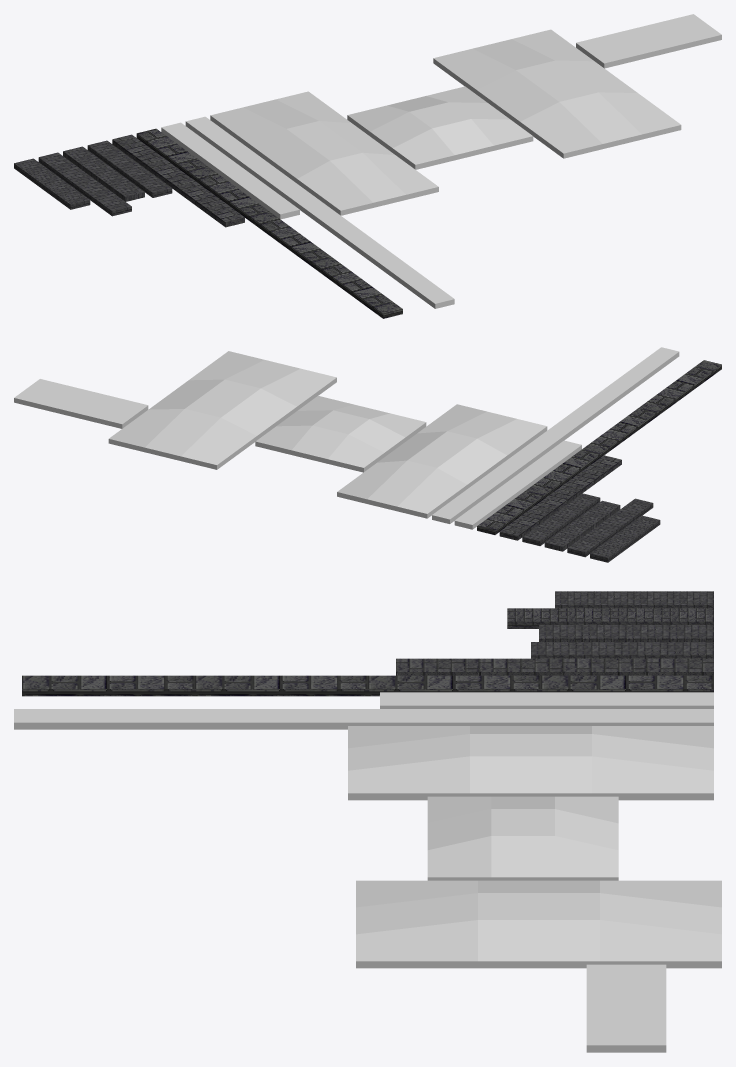
The model's file is Dungeon Roof.fbx.
3 views of the same model, one above another, from view 1: azimuth 30°, elevation 25°; view 2: azimuth 150°, elevation 25°; view 3: azimuth 270°, elevation 25° (orthographic). The views are drawn at different scales.
Parts seen in each view (by area): view 1: Cube.156, Cube.155, Cube.134, Cube.141, Cube.143, Cube.150, Cube.140, Cube.148, Cube.151, Cube.149, Cube.152, Cube.153; view 2: Cube.156, Cube.155, Cube.134, Cube.141, Cube.143, Cube.150, Cube.140, Cube.148, Cube.151, Cube.149, Cube.152, Cube.153; view 3: Cube.156, Cube.155, Cube.134, Cube.143, Cube.141, Cube.150, Cube.148, Cube.140, Cube.151, Cube.149, Cube.152, Cube.153.
Part boxes in pixels (box(x1,y1,x2,y2)): Cube.156: box(433, 29, 681, 158); Cube.155: box(210, 91, 438, 215); Cube.134: box(347, 86, 533, 169); Cube.141: box(185, 116, 454, 308); Cube.143: box(136, 128, 402, 318); Cube.150: box(576, 14, 721, 68); Cube.140: box(161, 122, 299, 219); Cube.148: box(112, 134, 244, 227); Cube.151: box(38, 152, 131, 216); Cube.149: box(87, 140, 172, 197); Cube.152: box(63, 146, 144, 201); Cube.153: box(14, 158, 90, 209); Cube.156: box(108, 351, 336, 469); Cube.155: box(337, 404, 547, 518); Cube.134: box(255, 396, 426, 472); Cube.141: box(432, 347, 679, 523); Cube.143: box(477, 360, 721, 534); Cube.150: box(14, 379, 148, 428); Cube.140: box(454, 440, 581, 529); Cube.148: box(499, 455, 621, 540); Cube.151: box(567, 498, 653, 557); Cube.149: box(522, 493, 600, 545); Cube.152: box(544, 500, 620, 551); Cube.153: box(590, 515, 660, 562); Cube.156: box(356, 880, 721, 968); Cube.155: box(348, 726, 713, 800); Cube.134: box(427, 796, 618, 880); Cube.143: box(22, 675, 713, 696); Cube.141: box(14, 709, 713, 729); Cube.150: box(586, 964, 666, 1052); Cube.148: box(396, 658, 713, 675); Cube.140: box(380, 692, 713, 708); Cube.151: box(507, 608, 713, 628); Cube.149: box(531, 642, 713, 658); Cube.152: box(539, 625, 713, 641); Cube.153: box(555, 591, 713, 608).
Bounding box in the file's own units: 13500 × 300 × 8900.
